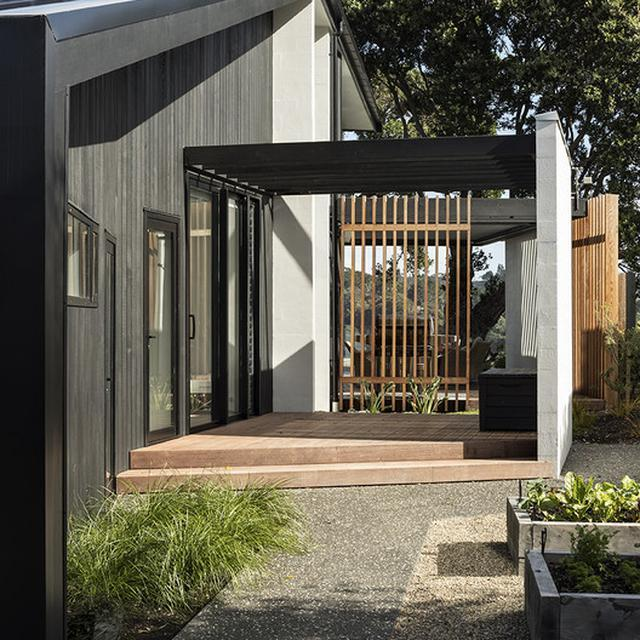building: (0, 0, 577, 473)
